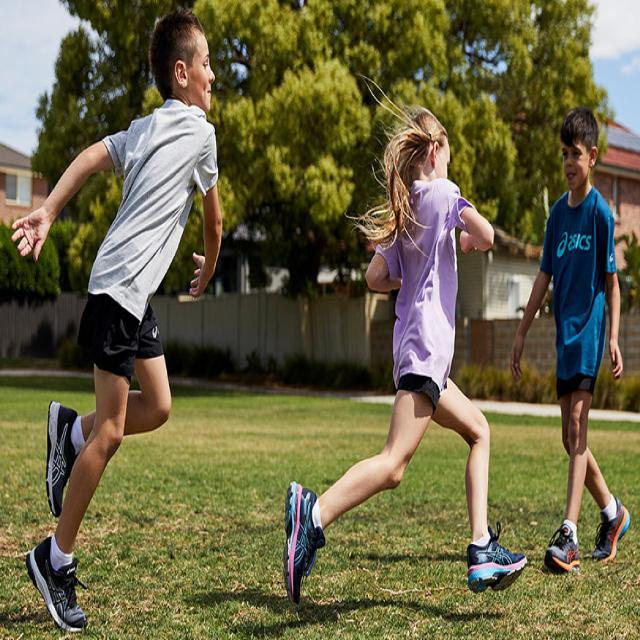Person: (12, 10, 224, 634), (284, 107, 526, 605), (510, 106, 630, 573)
